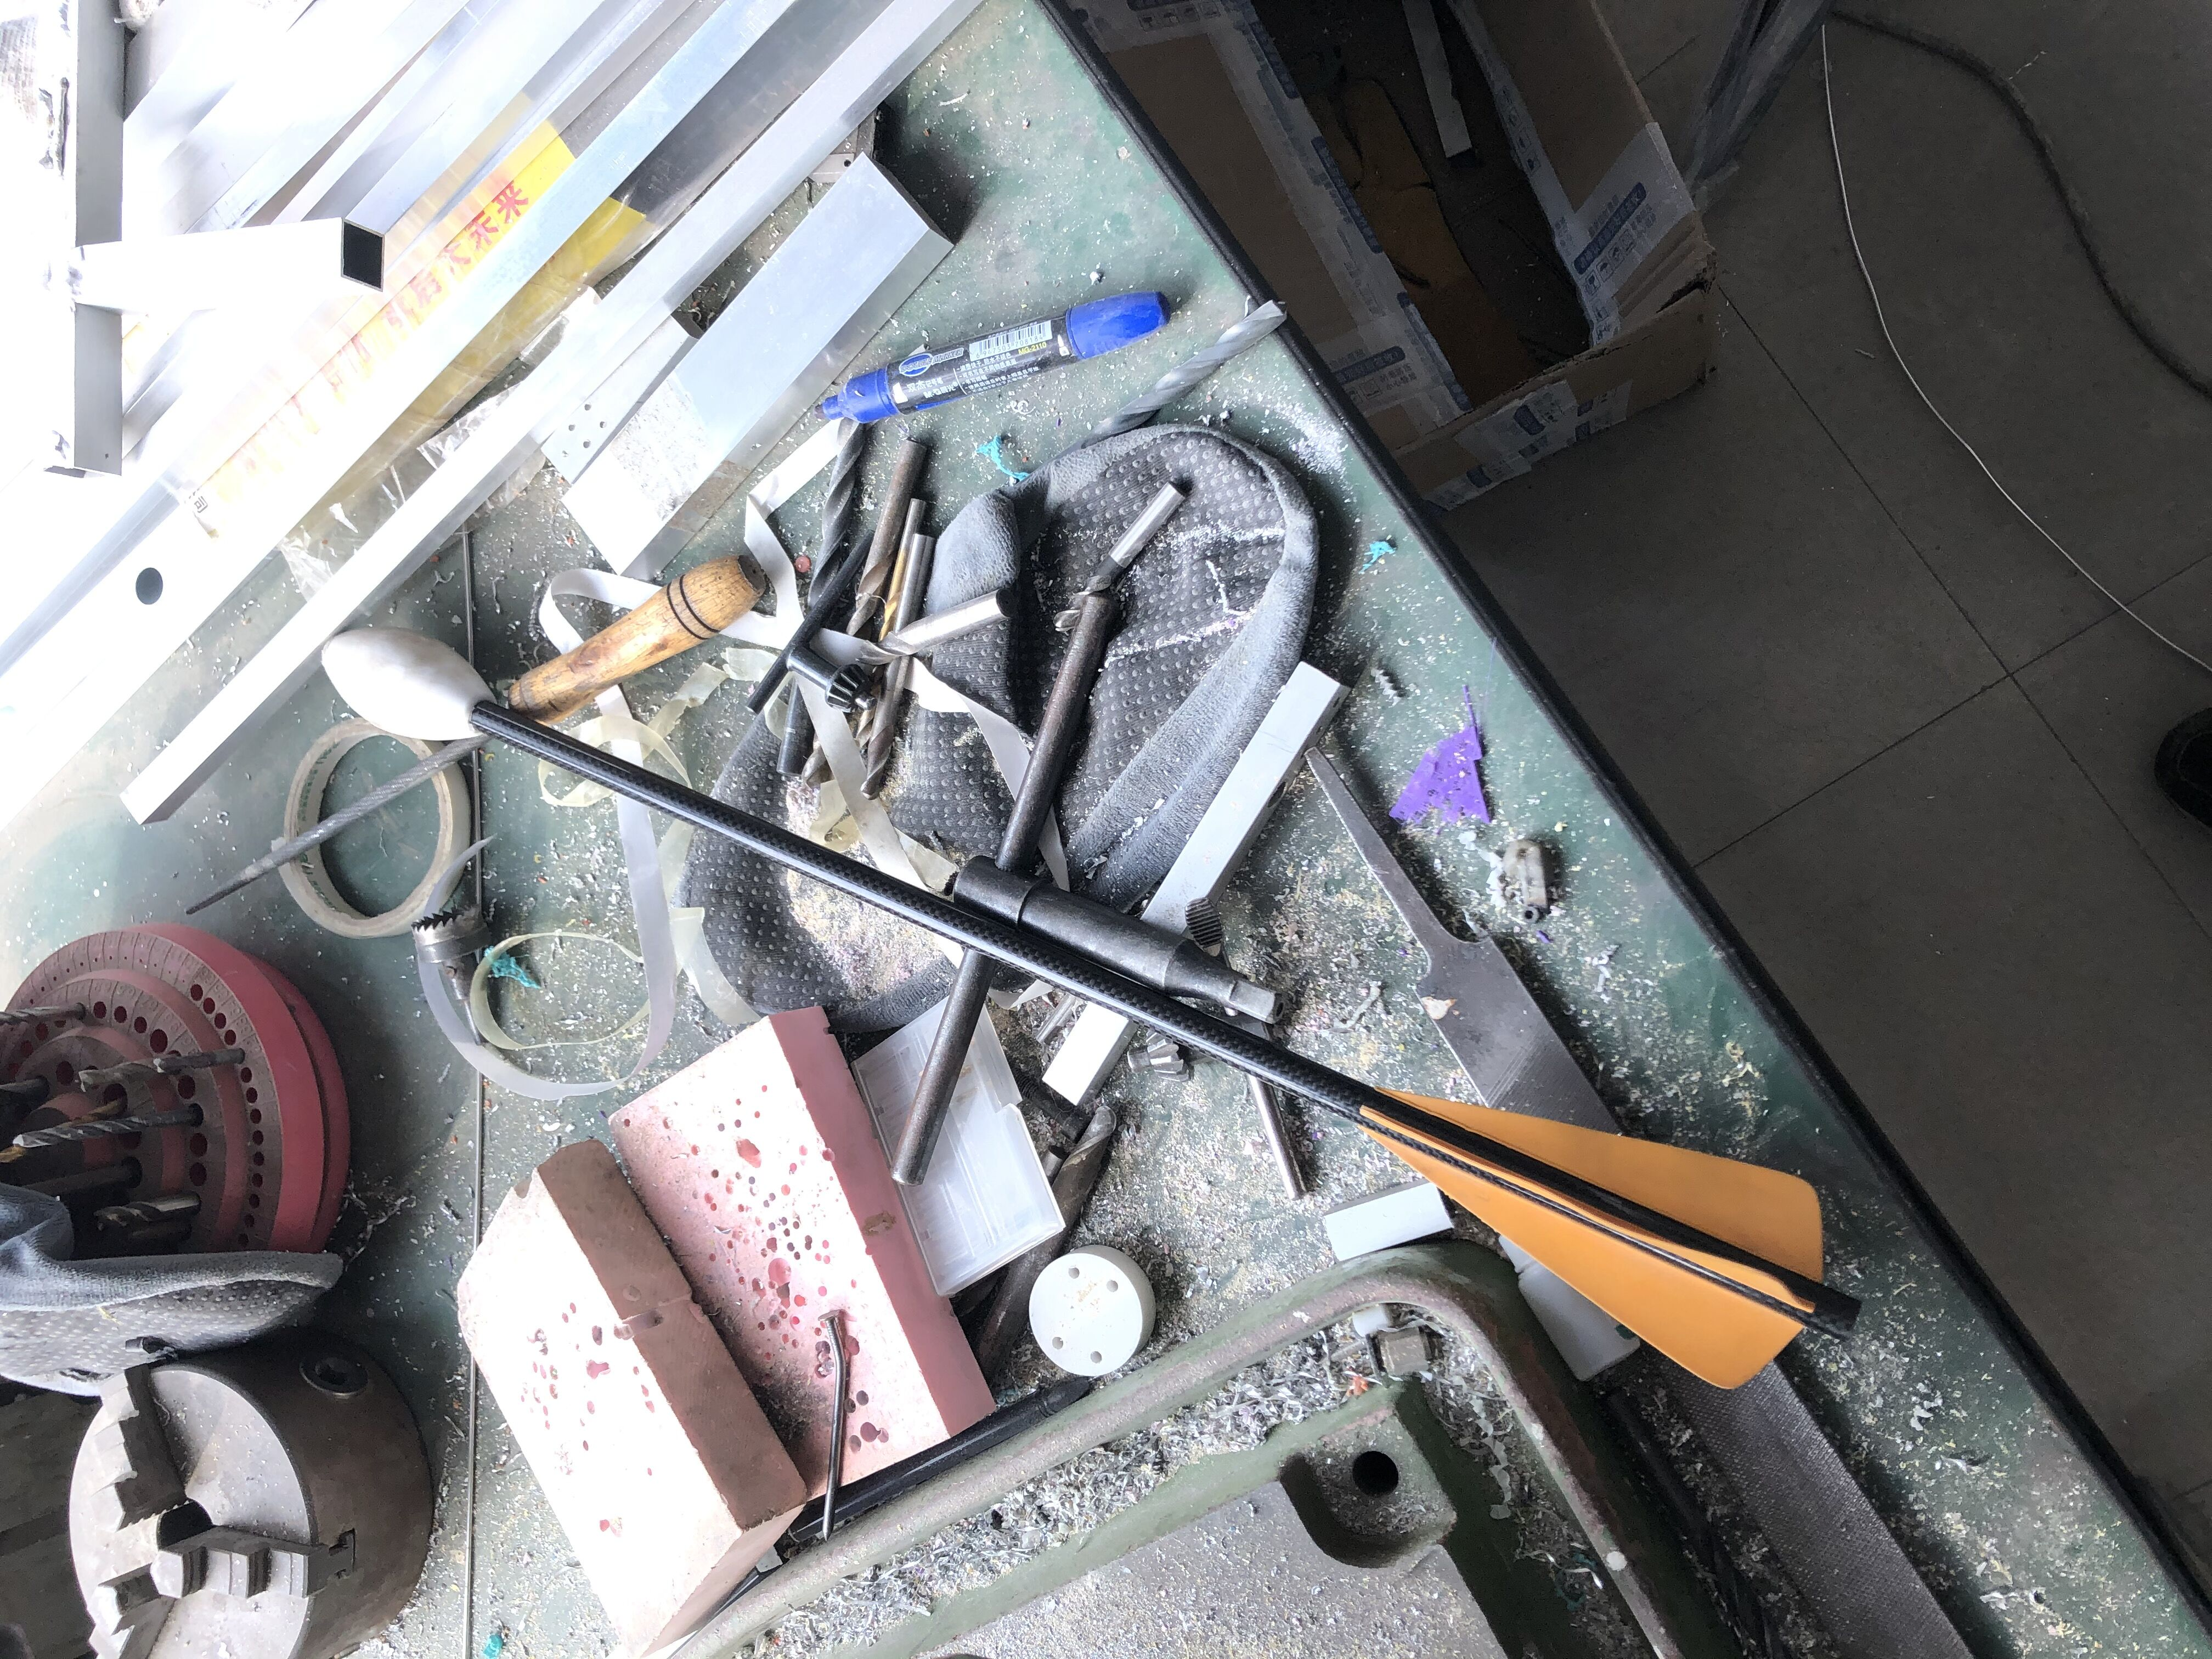arrow: (315, 624, 1864, 1396)
arrowFront: (314, 622, 493, 739)
